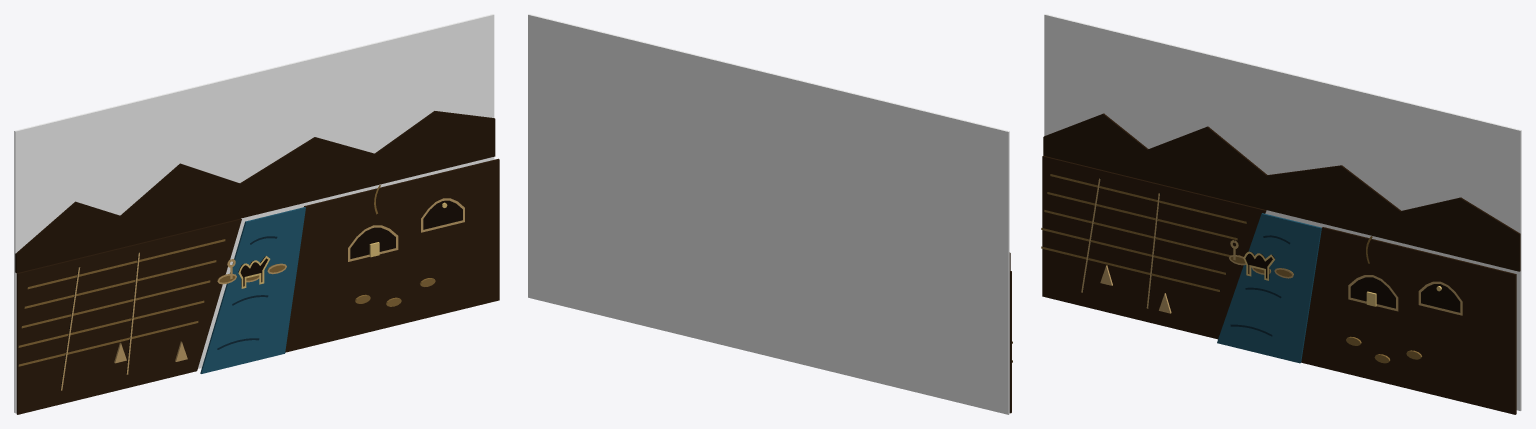
Rendered from loc-brod-chu.glb.
3 renders of one model, left to right at view 1: azimuth 30°, elevation 25°; view 2: azimuth 150°, elevation 25°; view 3: azimuth 330°, elevation 25°, orthographic.
Parts seen in each view (by area): view 1: loc-brod-chu; view 2: loc-brod-chu; view 3: loc-brod-chu.
Part boxes in pixels (bbox=[...]): loc-brod-chu: bbox=[14, 14, 499, 414]; loc-brod-chu: bbox=[528, 14, 1012, 414]; loc-brod-chu: bbox=[1041, 14, 1521, 414].
Bounding box in the file's own units: 5.33 × 3 × 0.46.
